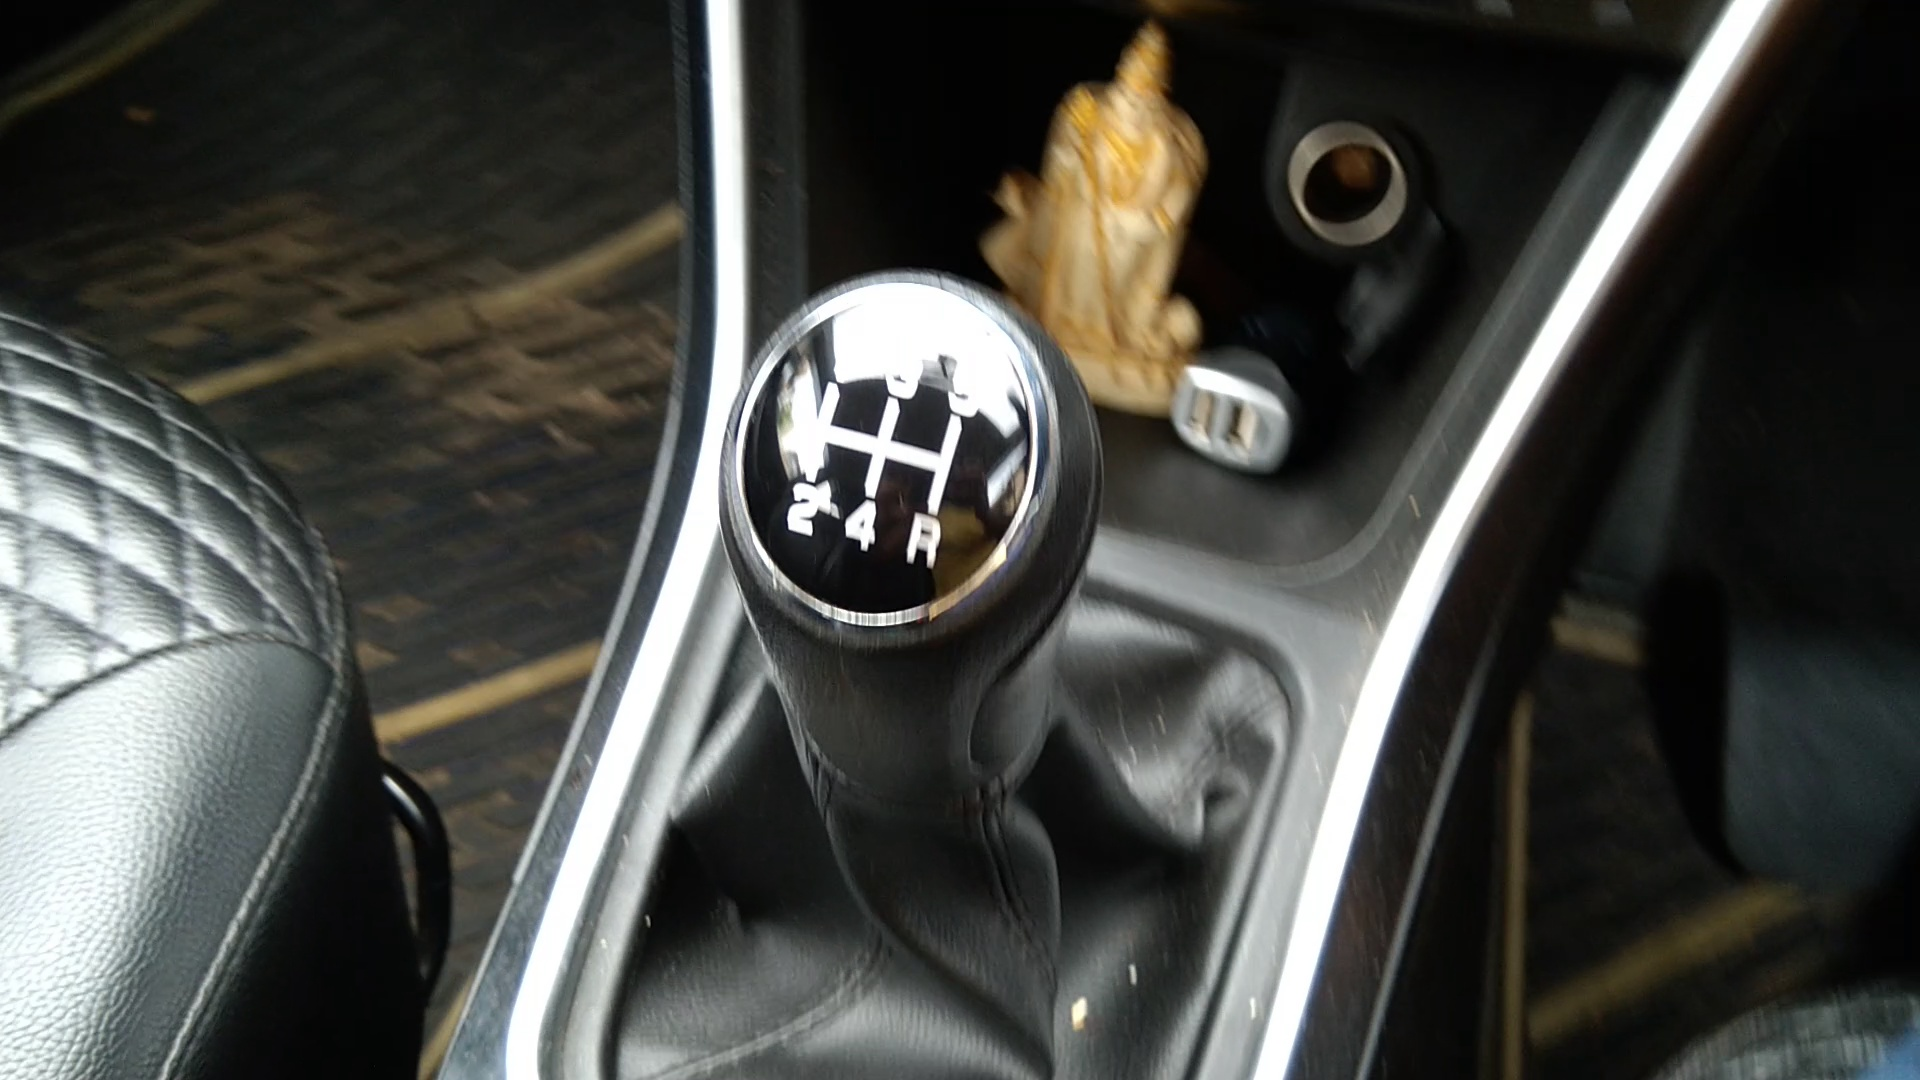manual_gear: (713, 265, 1101, 899)
